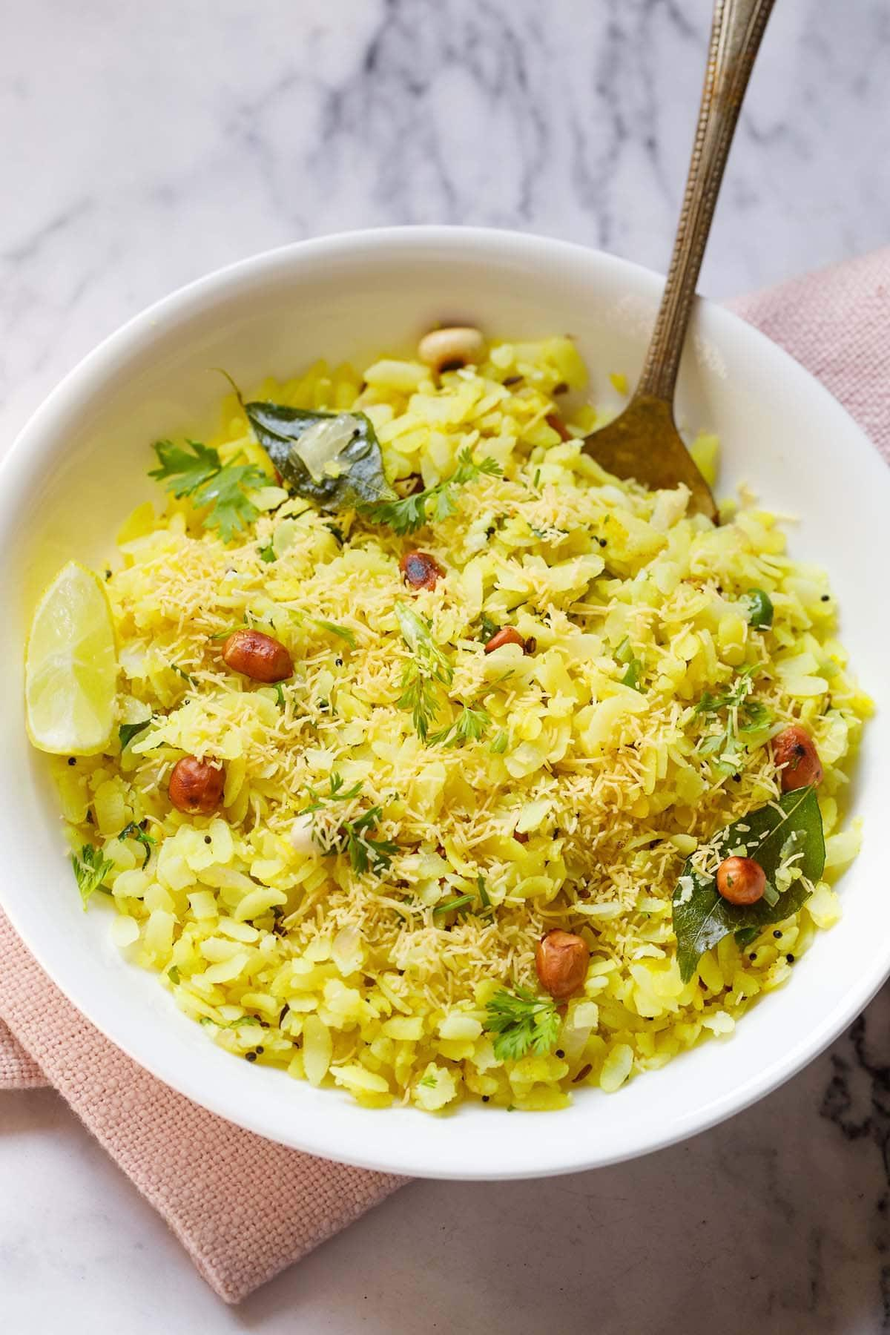poha: (46, 290, 878, 1123)
